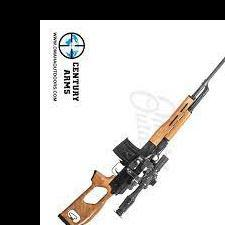larga: (57, 57, 225, 225)
